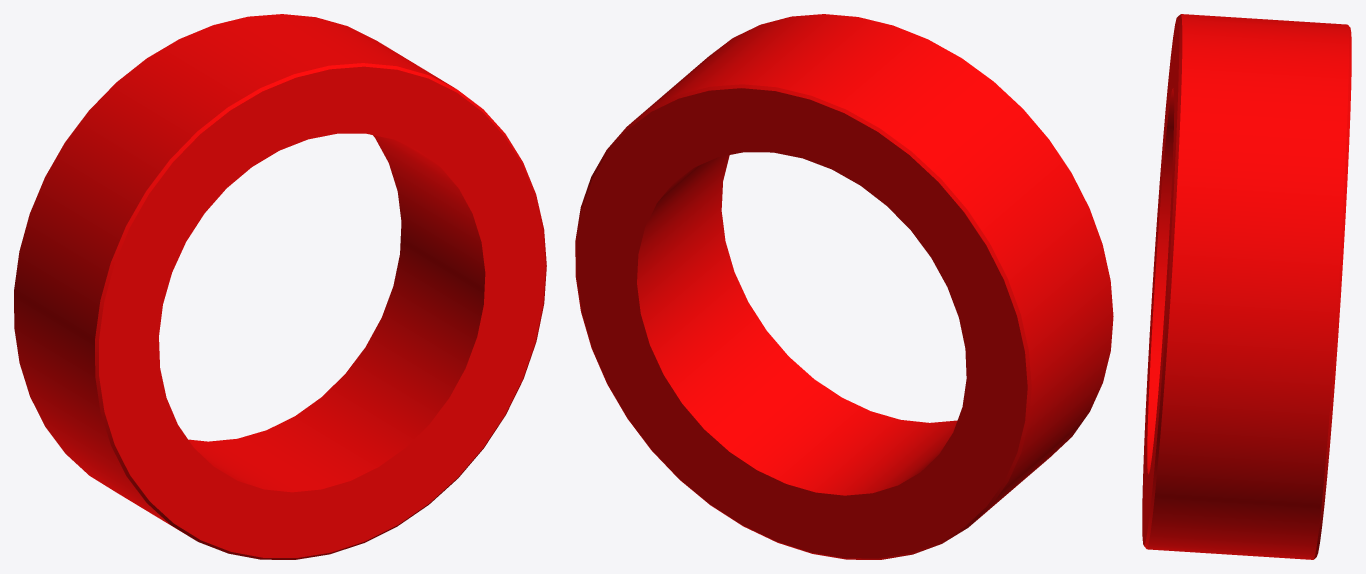
3 views of the same model, side by side, from view 1: azimuth 30°, elevation 25°; view 2: azimuth 150°, elevation 25°; view 3: azimuth 270°, elevation 25° (orthographic). The views are drawn at different scales.
Parts seen in each view (by area): view 1: 0C6E641F3DC18749666DF3C59C03E7384C05AFCA|:|C1D72E2876D5_ac79; view 2: 0C6E641F3DC18749666DF3C59C03E7384C05AFCA|:|C1D72E2876D5_ac79; view 3: 0C6E641F3DC18749666DF3C59C03E7384C05AFCA|:|C1D72E2876D5_ac79.
Part boxes in pixels (left/top/right/bottom): 0C6E641F3DC18749666DF3C59C03E7384C05AFCA|:|C1D72E2876D5_ac79: left=14, top=14, right=546, bottom=559; 0C6E641F3DC18749666DF3C59C03E7384C05AFCA|:|C1D72E2876D5_ac79: left=575, top=14, right=1113, bottom=559; 0C6E641F3DC18749666DF3C59C03E7384C05AFCA|:|C1D72E2876D5_ac79: left=1142, top=14, right=1351, bottom=559.
Bounding box in the file's own units: 89.93 × 91.6 × 35.13.
